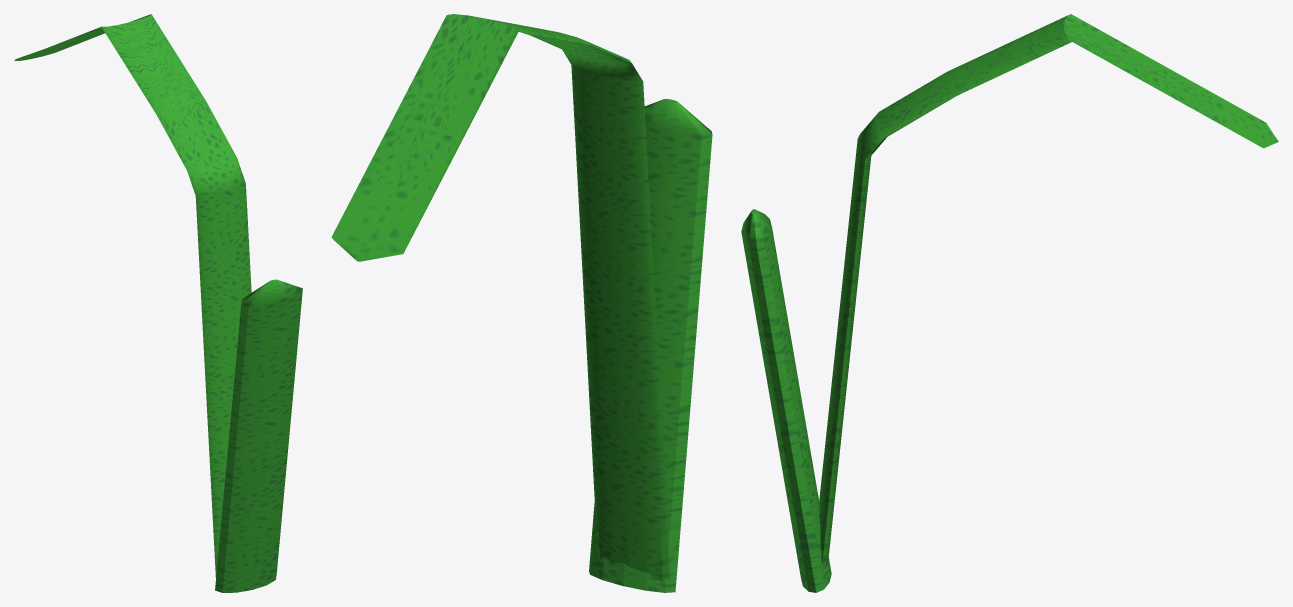
File: grass-3.fbx
3 renders of one model, left to right at view 1: azimuth 30°, elevation 25°; view 2: azimuth 150°, elevation 25°; view 3: azimuth 270°, elevation 25°, orthographic. The views are drawn at different scales.
Visible parts, largest first — view 1: pCylinder8; view 2: pCylinder8; view 3: pCylinder8.
Part boxes in pixels (x1,y1,x2,y2): pCylinder8: (14,14,302,592); pCylinder8: (331,14,712,592); pCylinder8: (741,14,1278,592).
Size of the model in its own units: 1.32 by 9.33 by 8.3.
Materials: 1 (1 with a texture image).
